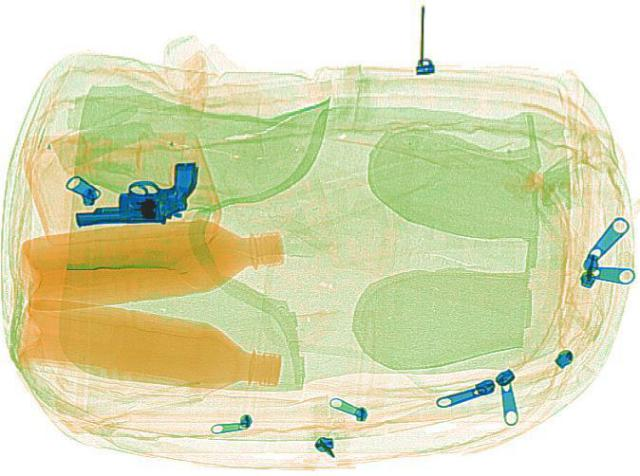Gun: (66, 160, 204, 227)
